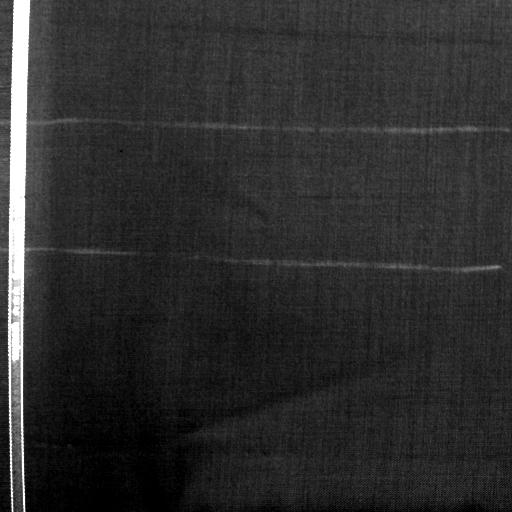fabric_broken_pick: (296, 188, 406, 206)
